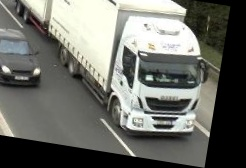truck: (0, 0, 215, 144)
